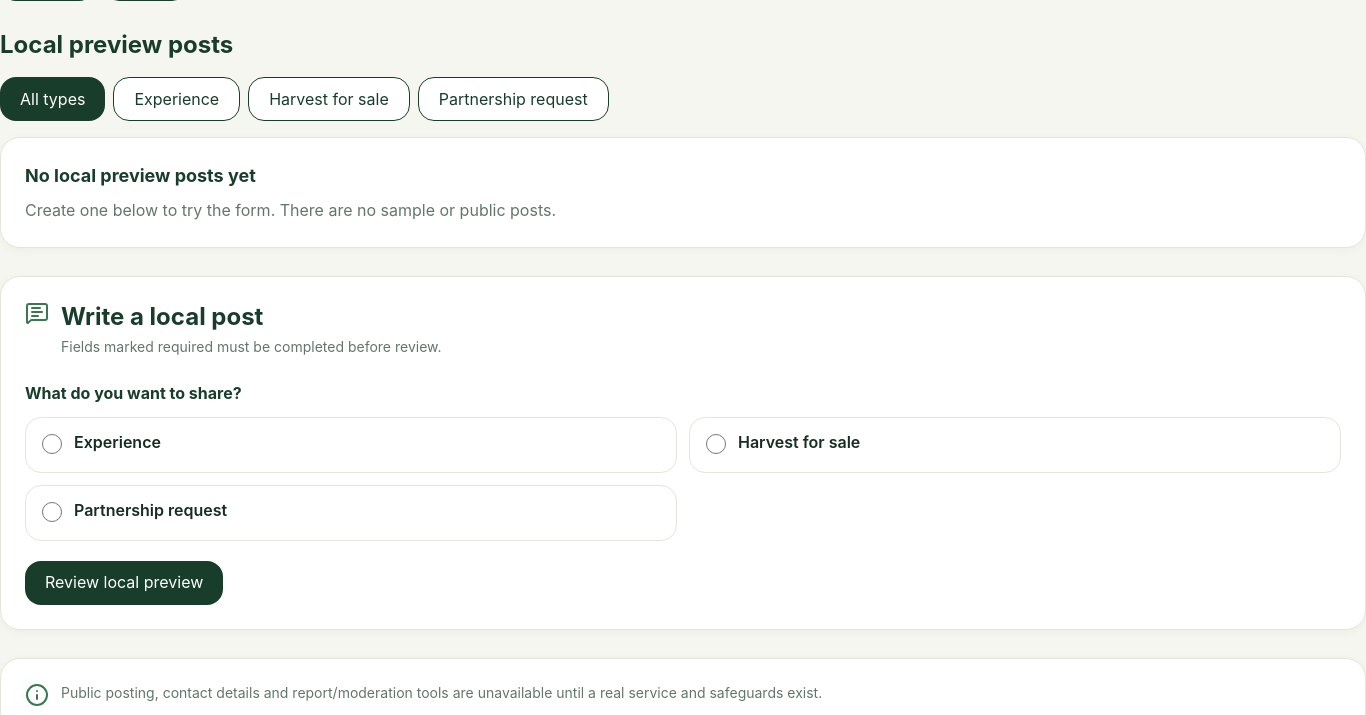
M4 community is a LOCAL demo, not public posting › shows a required type error without pretending to submit
(page scrolled)
Click the button "Review local preview": (124, 583) [25,561,223,605]
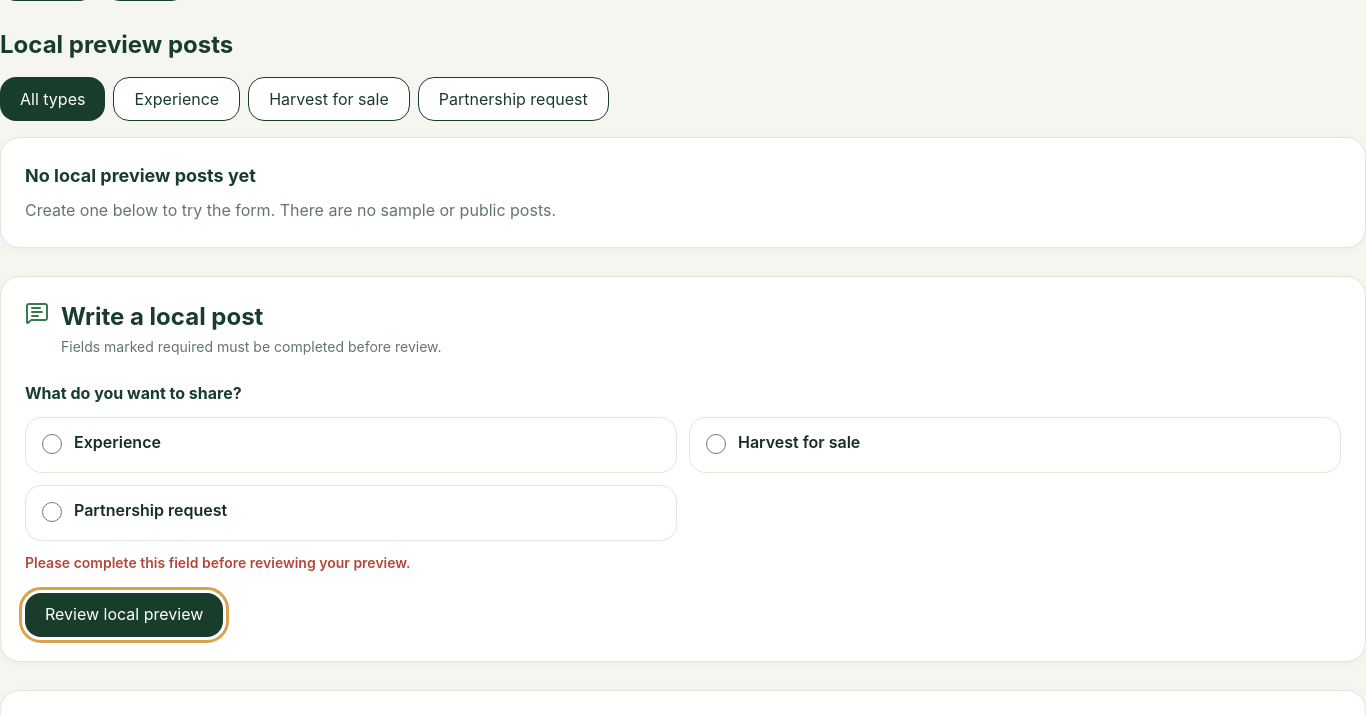
Now the message shows "Please complete this field", box [25,554,410,571]
